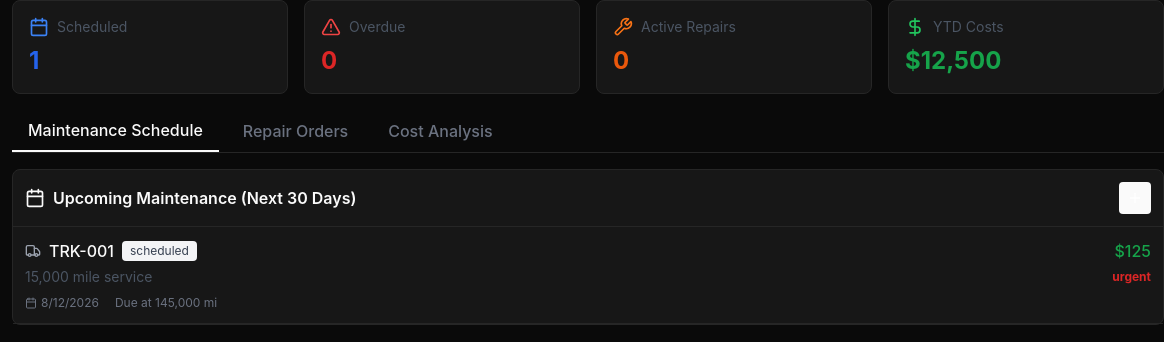
Test: MaintenancePanel — the repair orders tab › shows no figure at all for a repair with no cost recorded
Expected: the text "15,000 mile service" is shown, [25,268,152,285]
Click the button "Repair Orders" at (296, 131), box [227,110,364,152]
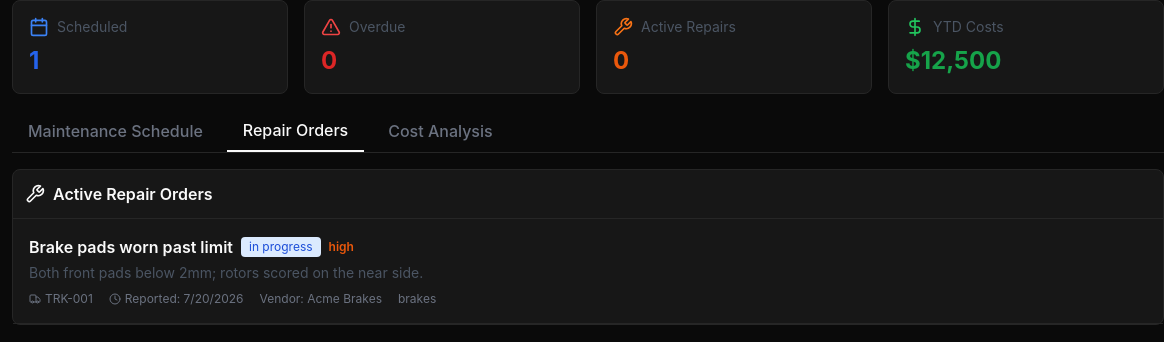
Expected: the text "Brake pads worn past limit" is shown, [29,235,233,259]
